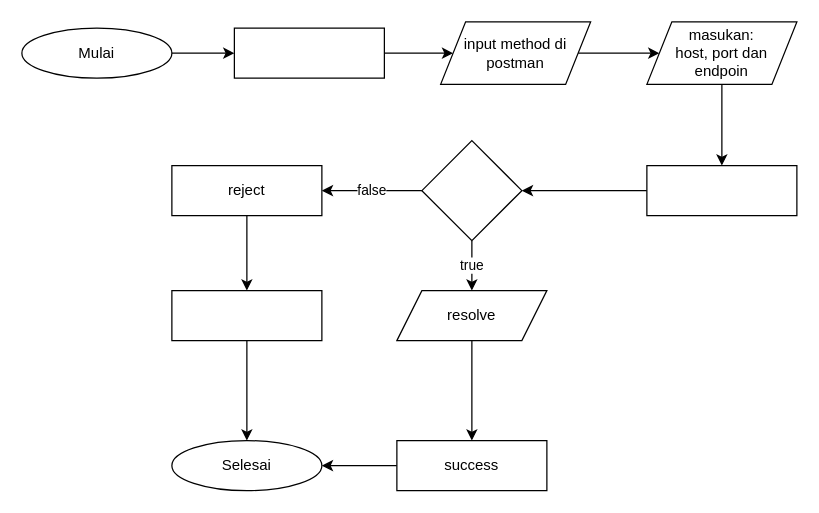
Image size: 819x513. Some labels were removed from this diagram. The shapes that lost their labels are listed below. From the top down, each one's centre as x and y in pixels, then its label:
At [308,52]: "npm start".
At [471,190]: "promise".
At [721,190]: "SEND".
At [246,315]: "error".
